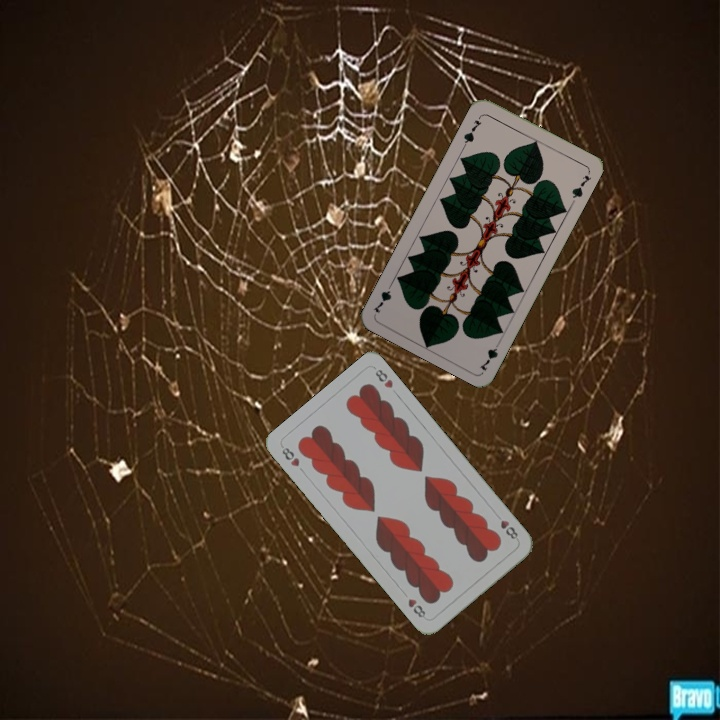G7: (476, 336, 504, 373), (459, 116, 484, 149)
H8: (277, 442, 302, 469), (496, 516, 521, 542)
